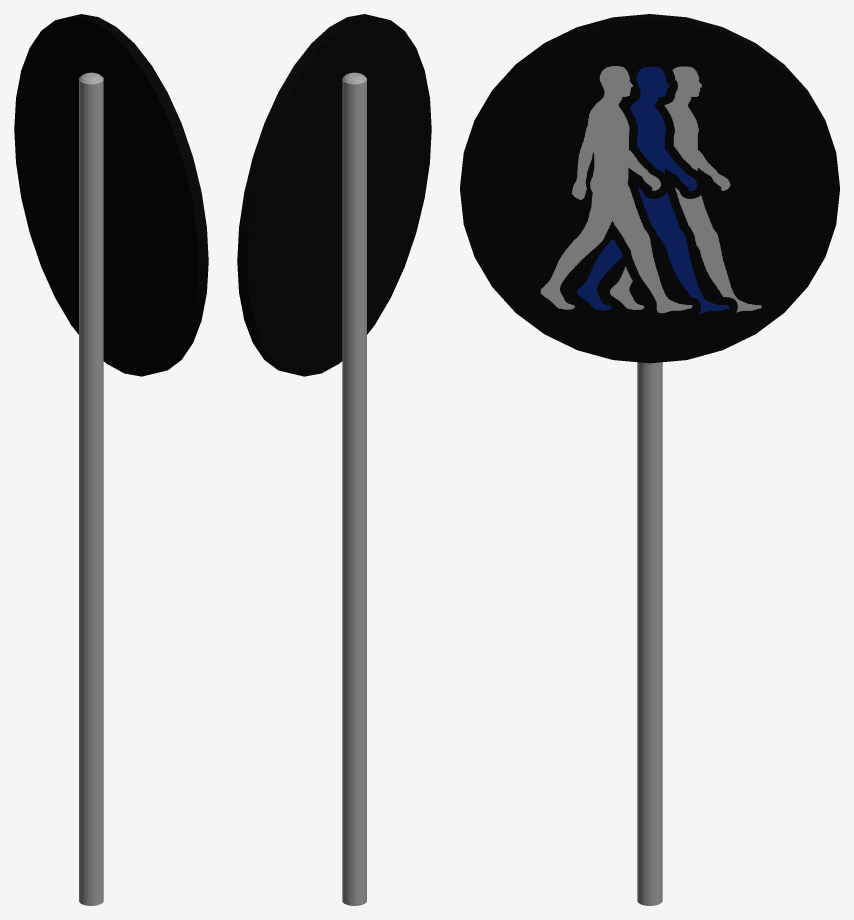
Rendered from present_pannel.glb.
The picture shows the model from 3 angles, left to right: view 1: azimuth 30°, elevation 25°; view 2: azimuth 150°, elevation 25°; view 3: azimuth 270°, elevation 25°; orthographic projection. The views are drawn at different scales.
Visible parts, largest first — view 1: Cylinder.001; view 2: Cylinder.001; view 3: Cylinder.001.
Part boxes in pixels (<box>): Cylinder.001: <box>14,14,208,905</box>; Cylinder.001: <box>237,14,431,905</box>; Cylinder.001: <box>460,14,839,905</box>.
Bounding box in the file's own units: 0.7801 × 17.98 × 6.92.
Materials: 2 (1 with a texture image).
